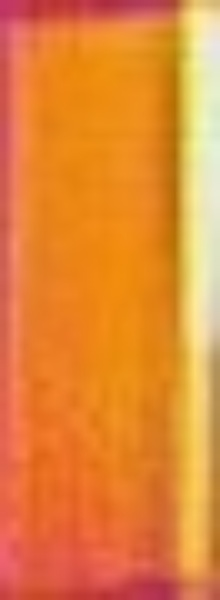Diode: (172, 7, 220, 583)
